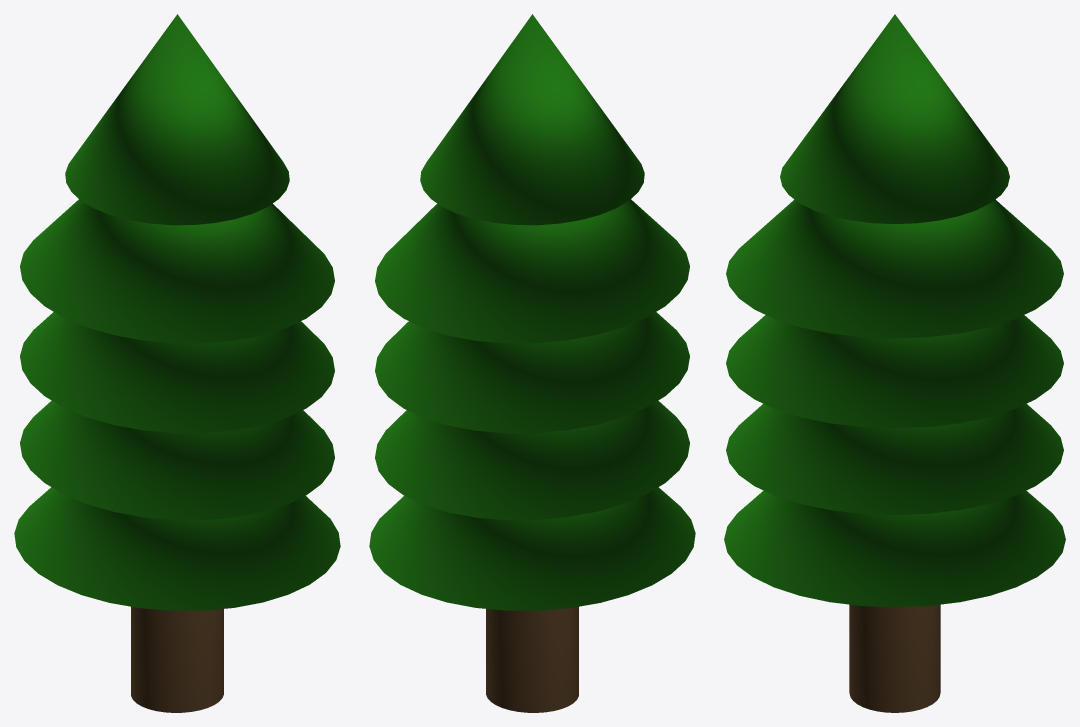
Rendered from PineTree.fbx.
3 renders of one model, left to right at view 1: azimuth 30°, elevation 25°; view 2: azimuth 150°, elevation 25°; view 3: azimuth 270°, elevation 25°, orthographic.
Parts seen in each view (by area): view 1: Cone.003, Cone, Cone.004, Cone.002, Cone.001, Cylinder; view 2: Cone.003, Cone, Cone.004, Cone.002, Cone.001, Cylinder; view 3: Cone.003, Cone, Cone.004, Cone.002, Cone.001, Cylinder.
Part boxes in pixels (x1,y1,x2,y2): Cone.003: [20, 199, 334, 343]; Cone: [14, 487, 340, 610]; Cone.004: [65, 14, 289, 225]; Cone.002: [20, 312, 334, 433]; Cone.001: [20, 400, 334, 519]; Cylinder: [131, 606, 223, 712]; Cone.003: [375, 199, 689, 343]; Cone: [369, 487, 695, 610]; Cone.004: [420, 14, 644, 225]; Cone.002: [375, 312, 689, 433]; Cone.001: [375, 400, 689, 519]; Cylinder: [486, 606, 578, 712]; Cone.003: [726, 199, 1063, 338]; Cone: [724, 490, 1065, 607]; Cone.004: [780, 14, 1009, 223]; Cone.002: [726, 315, 1063, 428]; Cone.001: [726, 404, 1063, 514]; Cylinder: [849, 604, 940, 712].
Size of the model in its own units: 235 by 549 by 250.
